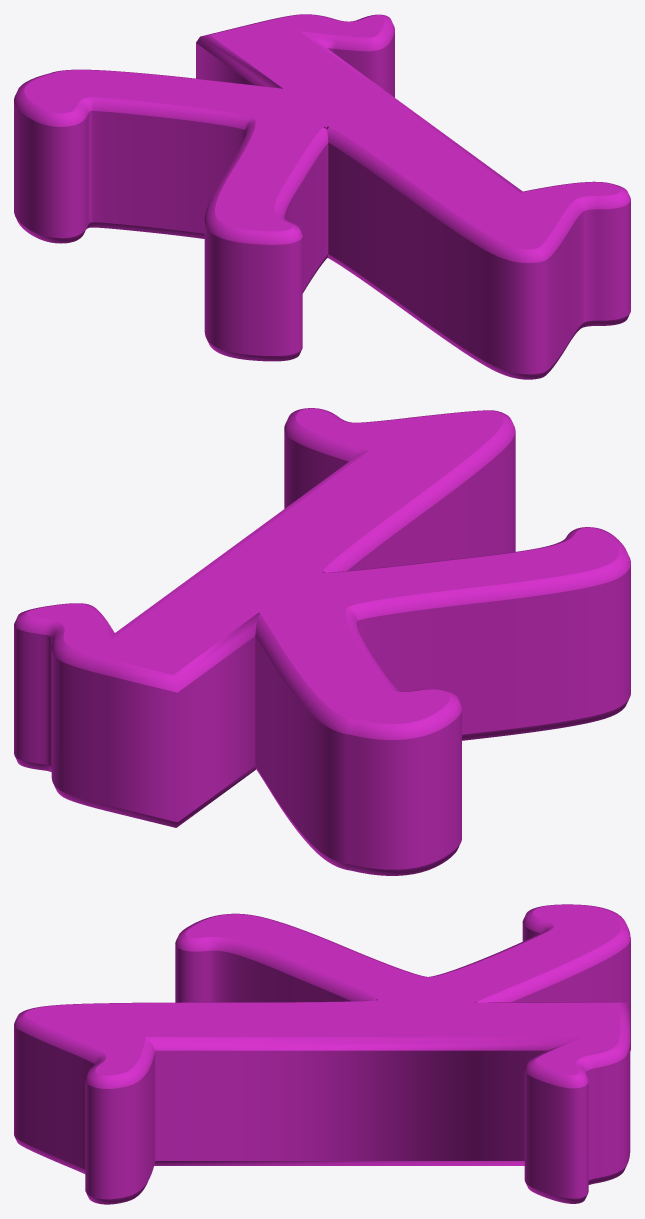
File: Letter_k_Small.fbx
The picture shows the model from 3 angles, top to bottom: view 1: azimuth 30°, elevation 25°; view 2: azimuth 150°, elevation 25°; view 3: azimuth 270°, elevation 25°; orthographic projection. The views are drawn at different scales.
Parts seen in each view (by area): view 1: Letter_k; view 2: Letter_k; view 3: Letter_k.
Part boxes in pixels (x1,y1,x2,y2): Letter_k: [14, 14, 630, 379]; Letter_k: [14, 408, 630, 875]; Letter_k: [14, 904, 630, 1204].
Bounding box in the file's own units: 0.4185 × 0.14 × 0.6083.
